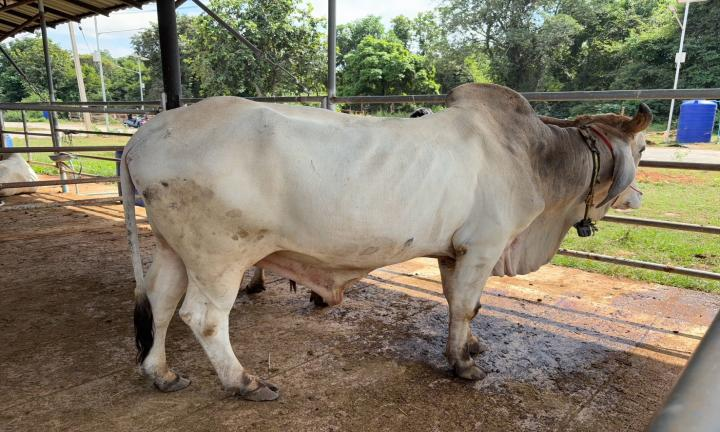Brahman: (120, 83, 652, 400)
